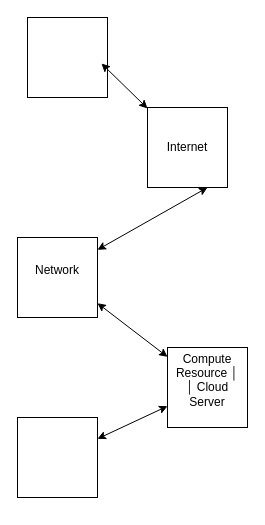
Image size: 265x525. Some labels were removed from this diagram. Each missing label, with the centre of its shape:
Storage Resource │ │ Cloud Storage: pixel 57 457
User: pixel 67 57
